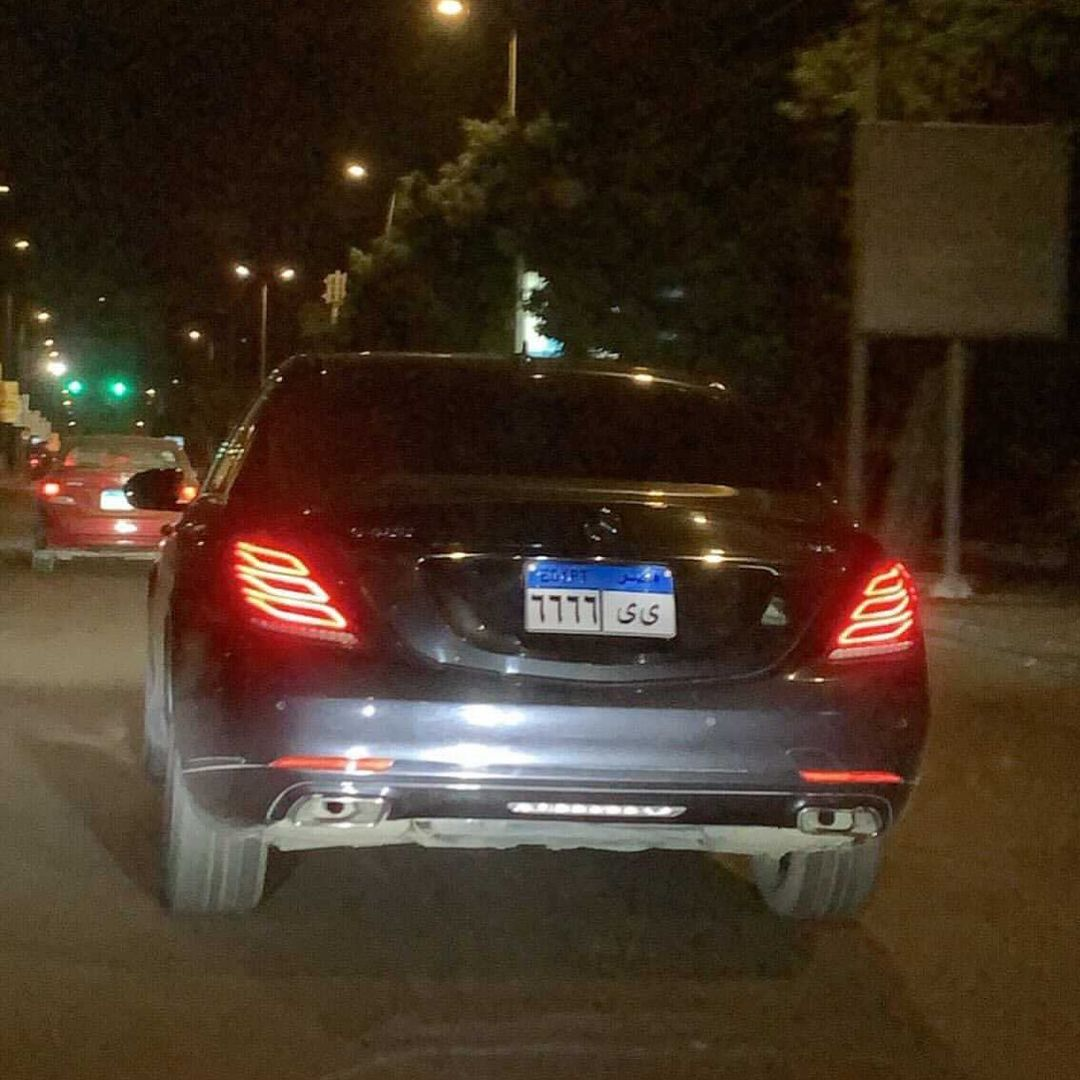carpl: (506, 549, 686, 651)
